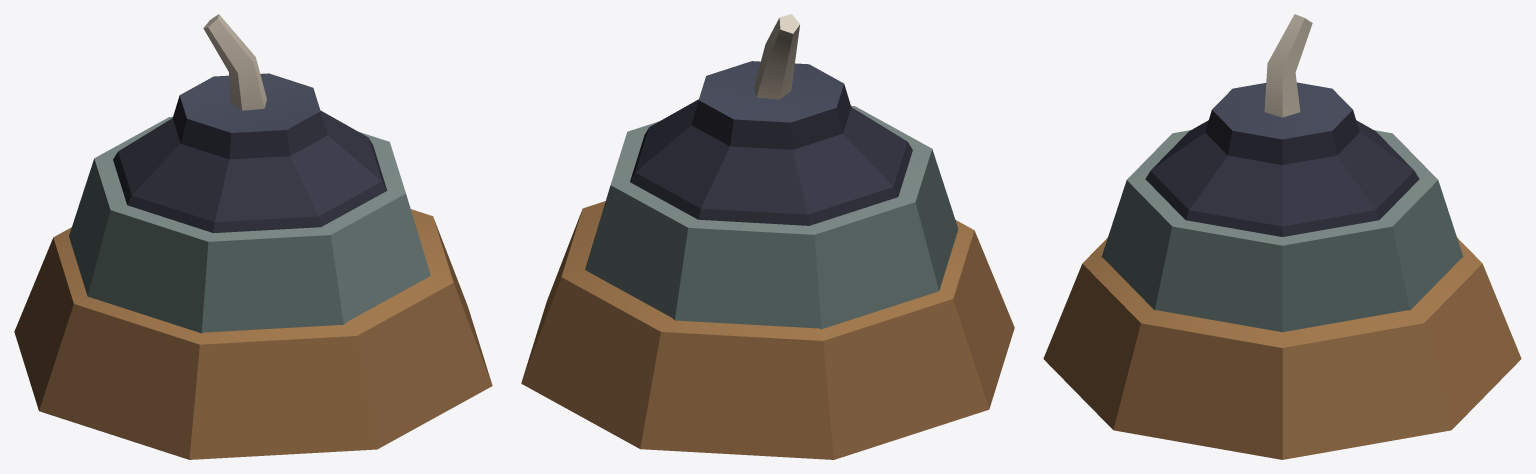
Rendered from MinesLv4.fbx.
3 views of the same model, side by side, from view 1: azimuth 30°, elevation 25°; view 2: azimuth 150°, elevation 25°; view 3: azimuth 270°, elevation 25° (orthographic). The views are drawn at different scales.
Parts seen in each view (by area): view 1: MinesLv4; view 2: MinesLv4; view 3: MinesLv4.
Boxes of the visible parts, x1=… form: MinesLv4: x1=14, y1=14, x2=492, y2=459; MinesLv4: x1=521, y1=14, x2=1014, y2=459; MinesLv4: x1=1043, y1=14, x2=1521, y2=459.
Bounding box in the file's own units: 37.06 × 32.4 × 37.06.
